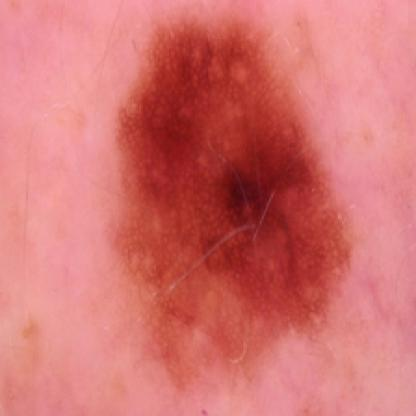benign: (130, 34, 347, 349)
